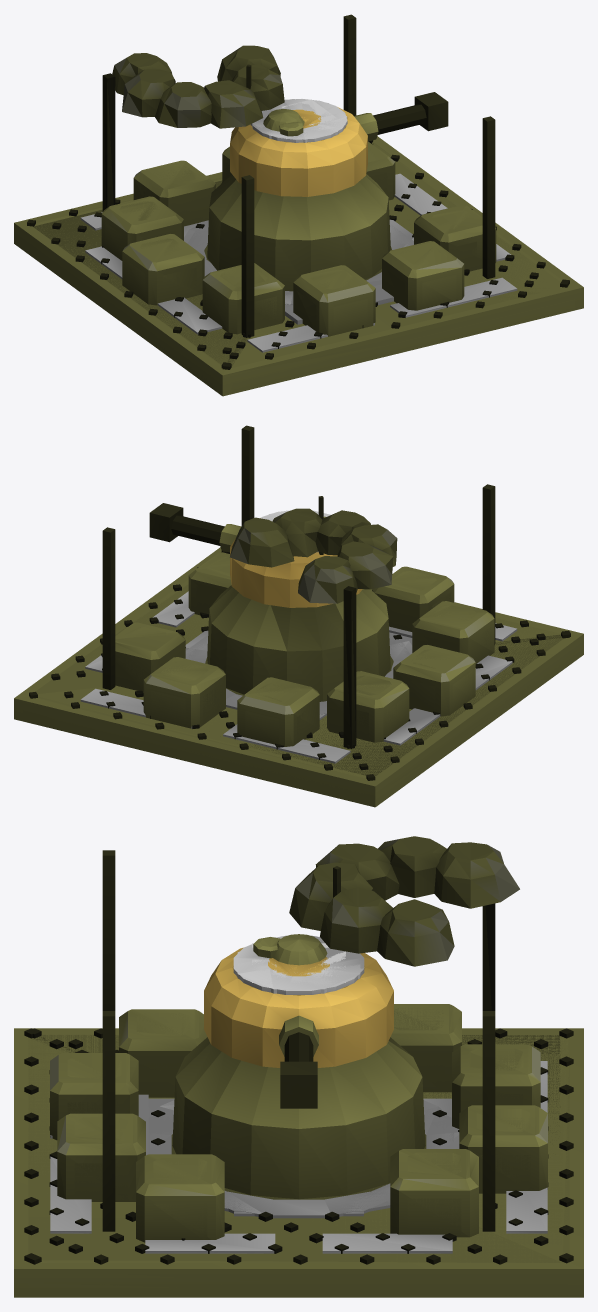
The model's file is meridian_decoy_emplacement_damaged.glb.
The picture shows the model from 3 angles, top to bottom: view 1: azimuth 30°, elevation 25°; view 2: azimuth 150°, elevation 25°; view 3: azimuth 270°, elevation 25°; orthographic projection. The views are drawn at different scales.
Visible parts, largest first — view 1: body (×3), turret (×3), barrel; view 2: body (×3), turret, barrel; view 3: body (×3), turret (×2), barrel.
Part boxes in pixels (bbox=[...]): body (×3): bbox=[14, 14, 583, 396]; turret (×3): bbox=[230, 64, 367, 196]; barrel: bbox=[354, 92, 448, 141]; body (×3): bbox=[14, 425, 583, 807]; turret: bbox=[230, 496, 362, 607]; barrel: bbox=[149, 503, 241, 552]; body (×3): bbox=[14, 836, 583, 1297]; turret (×2): bbox=[204, 866, 393, 1067]; barrel: bbox=[279, 1015, 318, 1108].
Size of the model in its own units: 3.6 by 1.99 by 3.6.
